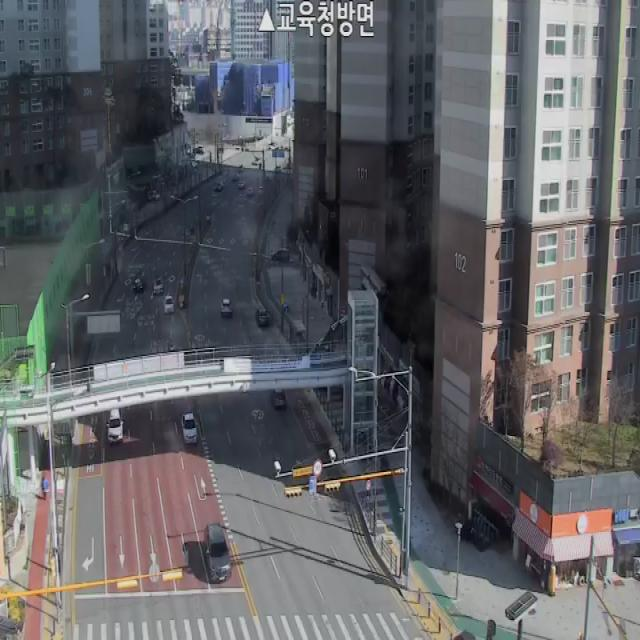Car: (206, 523, 231, 582), (106, 409, 124, 445), (182, 412, 198, 444), (272, 389, 287, 410), (270, 248, 290, 263), (255, 309, 270, 326), (163, 294, 174, 314), (220, 299, 232, 317), (153, 279, 163, 295), (134, 279, 144, 293), (213, 182, 224, 192), (238, 181, 245, 190)
